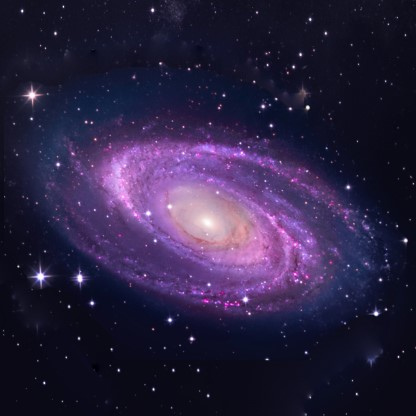Messier 81: (14, 80, 390, 319)
